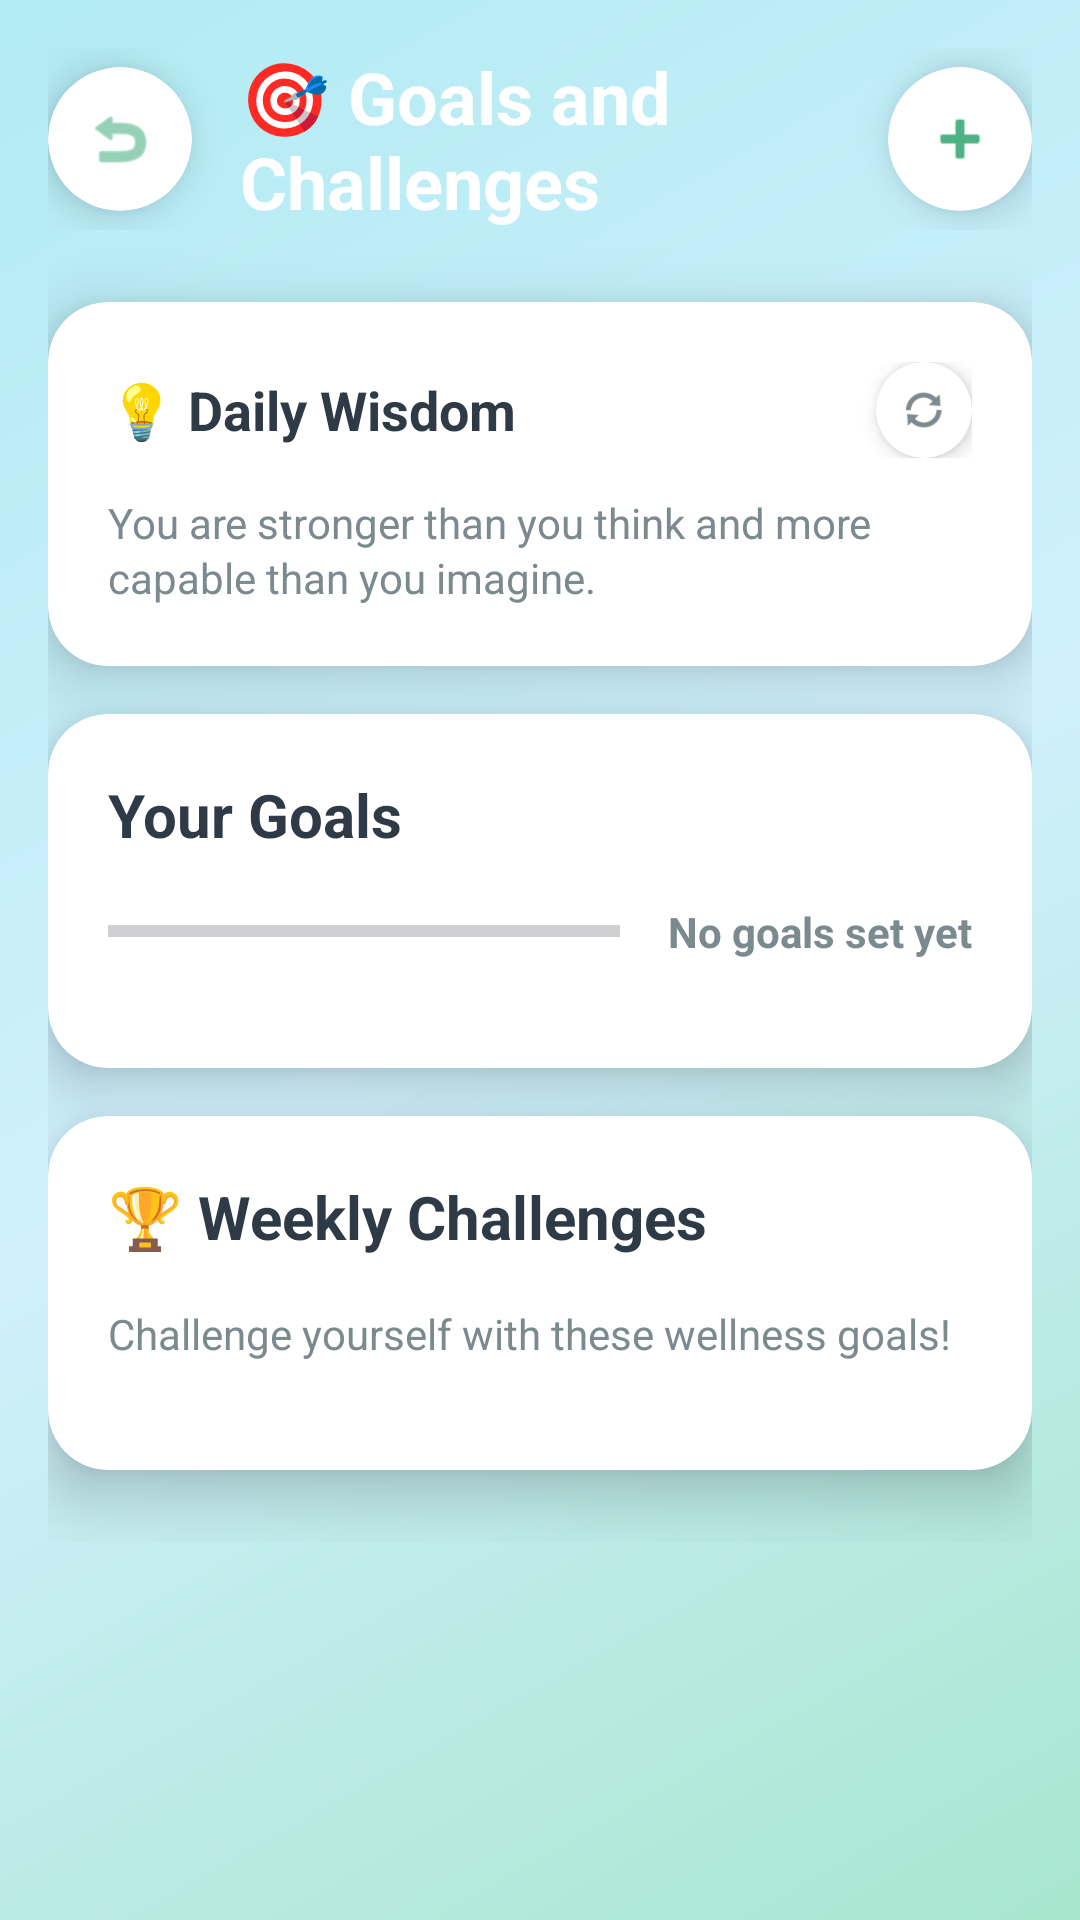

Screen size 1080*1920. Icon name, then its box in pixels as [left=x1, top=y1, right=x2, bottom=y2]:
add: [left=940, top=119, right=980, bottom=159]
popup sync: [left=906, top=392, right=942, bottom=428]
revert: [left=95, top=116, right=147, bottom=163]
